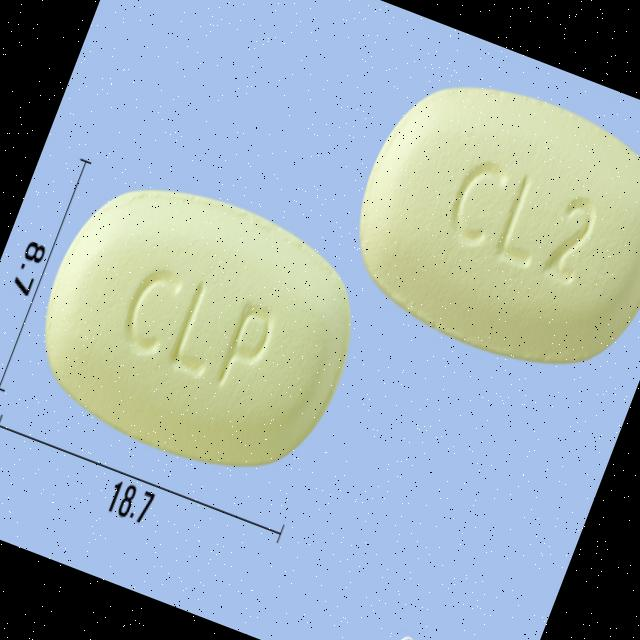Celltrion Clarithromycin: (8, 150, 387, 506), (321, 48, 640, 405)
